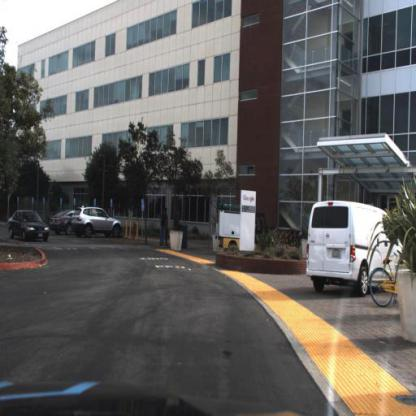car: (304, 198, 412, 305), (215, 203, 270, 255), (72, 205, 126, 241), (9, 209, 53, 245), (49, 205, 72, 237)
pedestrian: (159, 206, 169, 248), (174, 206, 182, 231)
truck: (214, 199, 273, 254)
